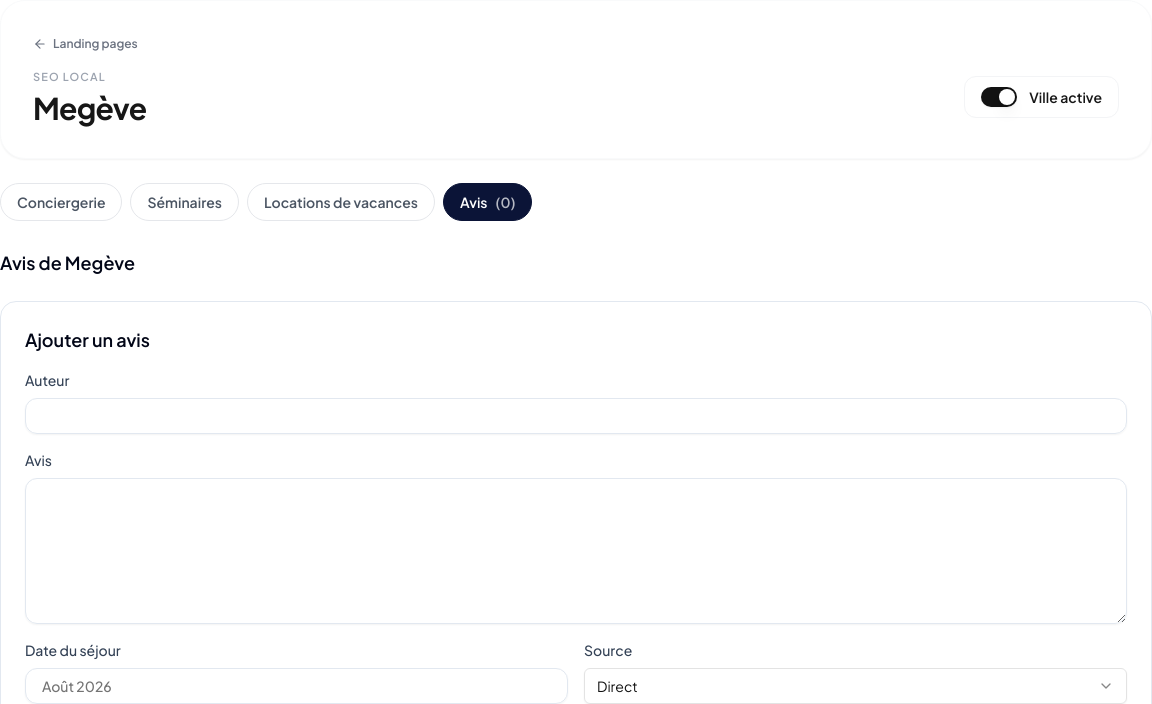
Scenario: 047 landing pages admin UI › rejects a malformed successful review response without clearing the draft or refreshing
The width and height of the screenshot is (1152, 704).
Type "Marie" into the field labelled "Auteur" at (576, 416), box x1=25 y1=398 x2=1127 y2=434
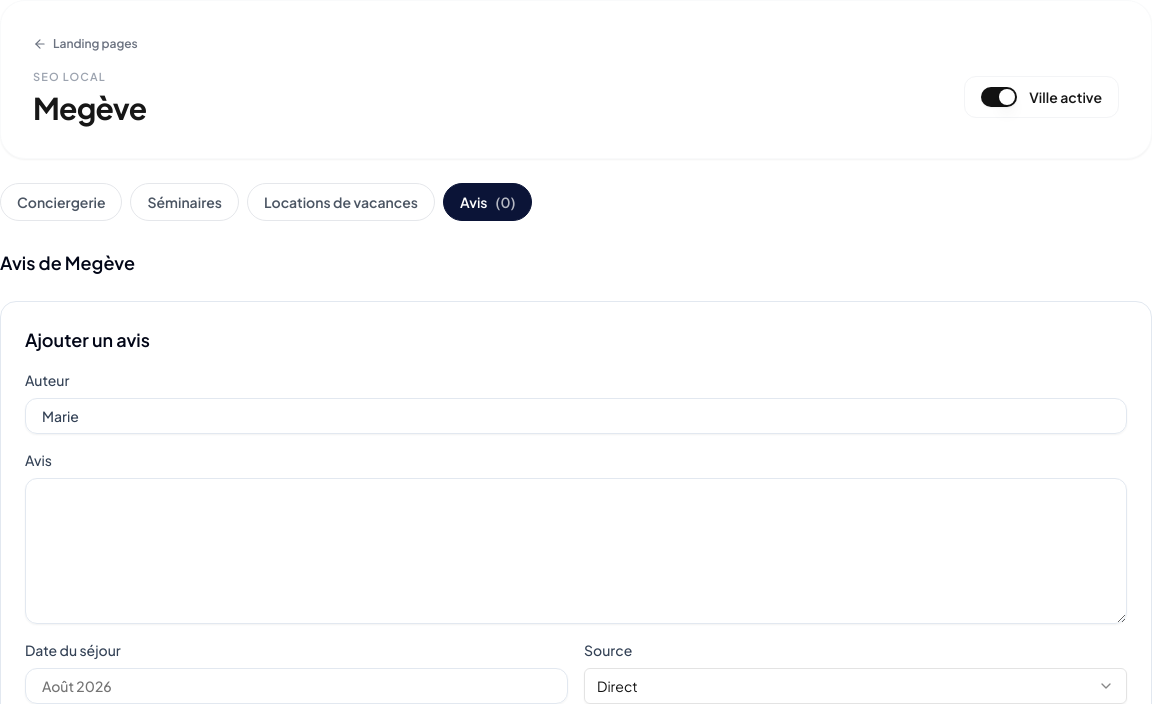
Type "Un séjour parfaitement accompagné par MyStay." into the text box labelled "Avis" at (576, 550), box x1=25 y1=478 x2=1127 y2=624
(page scrolled)
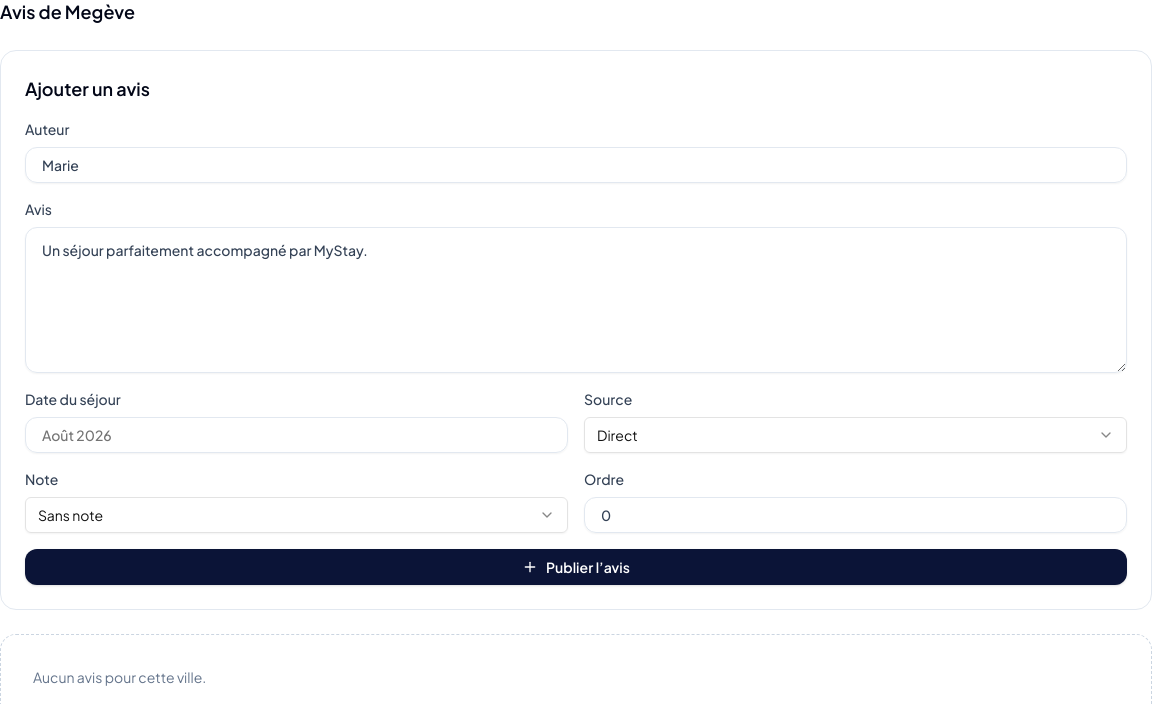
Click the button "Publier l’avis" at (576, 566), box x1=25 y1=548 x2=1127 y2=584
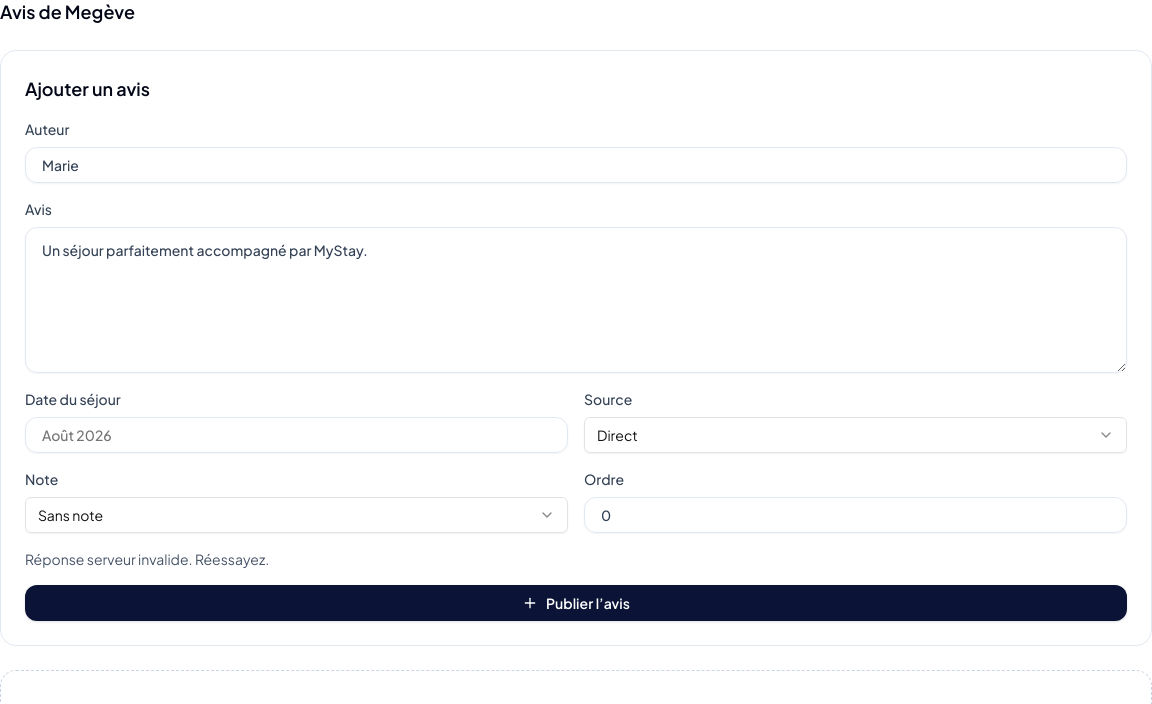
expect the message shows "Réponse serveur invalide": met, box x1=25 y1=550 x2=269 y2=568
